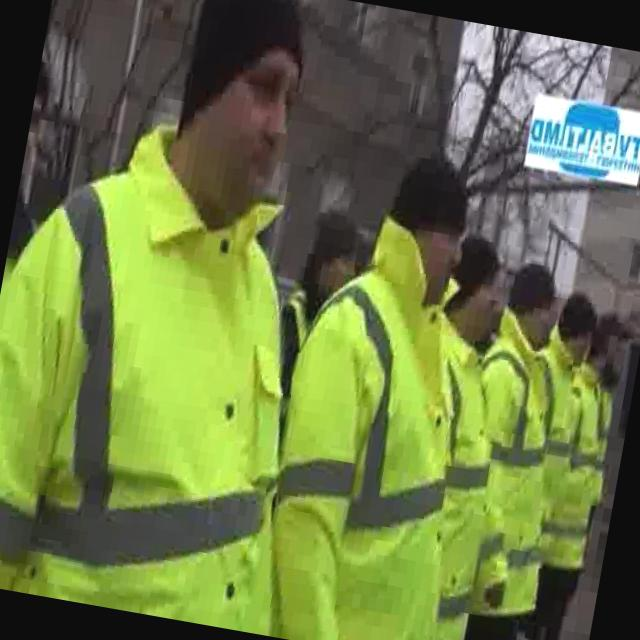vest: (0, 96, 353, 635), (247, 200, 508, 640), (433, 299, 588, 627), (381, 303, 523, 640), (502, 321, 597, 579), (532, 358, 618, 582)
